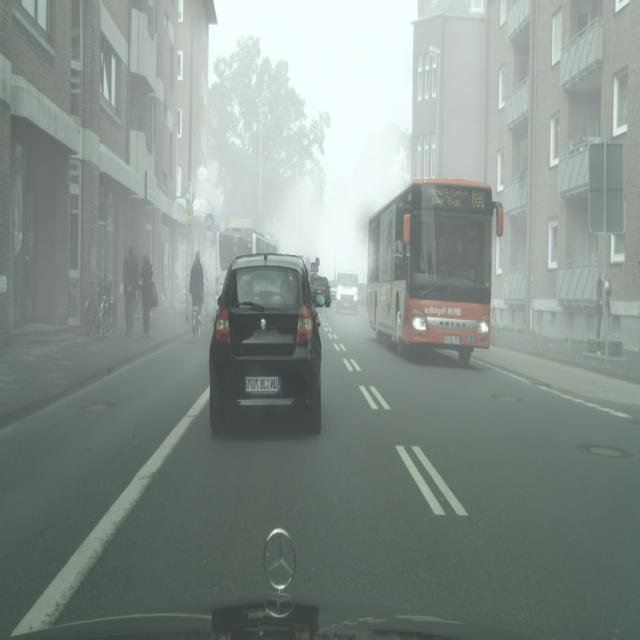bicycle: (335, 268, 359, 315)
bus: (209, 253, 323, 437), (311, 276, 331, 307), (358, 284, 367, 303)
car: (85, 272, 117, 339), (189, 252, 205, 341)
motorcycle: (366, 176, 500, 367)
person: (123, 241, 139, 338), (139, 254, 154, 337), (595, 270, 604, 343)
